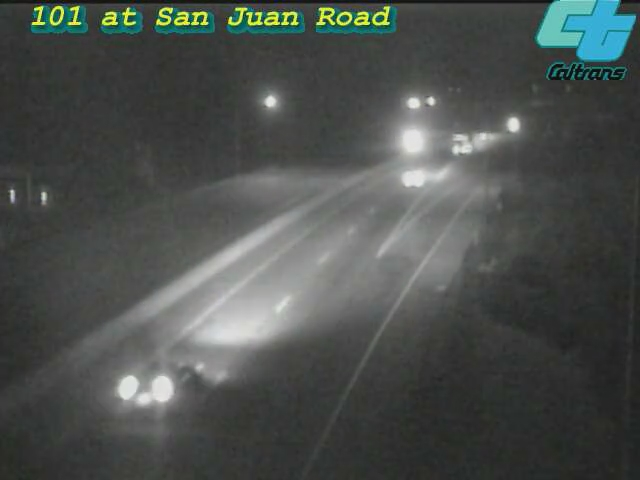vehicle: (104, 327, 214, 437), (375, 135, 455, 215), (384, 117, 434, 167), (488, 100, 538, 150), (462, 111, 512, 161), (448, 118, 498, 168)
